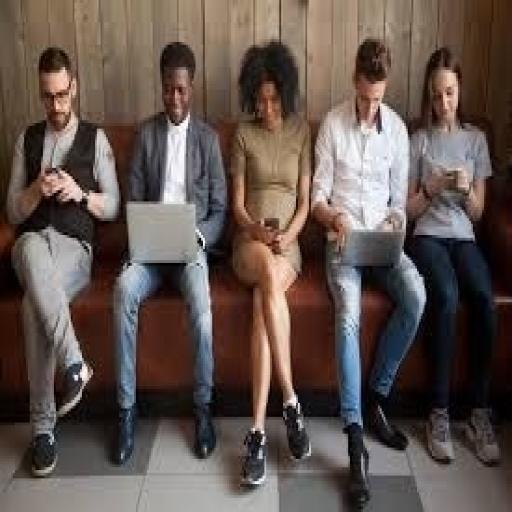sitting: (6, 31, 502, 487), (309, 34, 428, 504), (110, 39, 229, 465), (6, 42, 121, 478), (406, 42, 503, 467), (227, 36, 313, 487)
